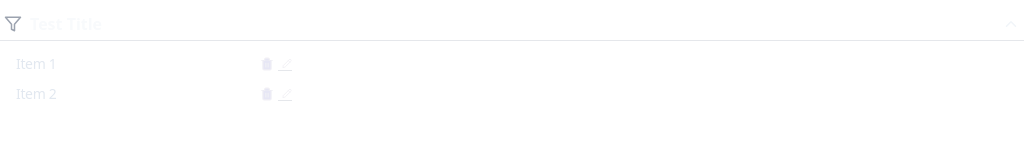
MenuItem Component › should enter edit mode in advanced menuItem when edit icon is clicked
The image size is (1024, 160).
Click the button named "Edit Item 1" at (285, 64), box [278,57,292,71]
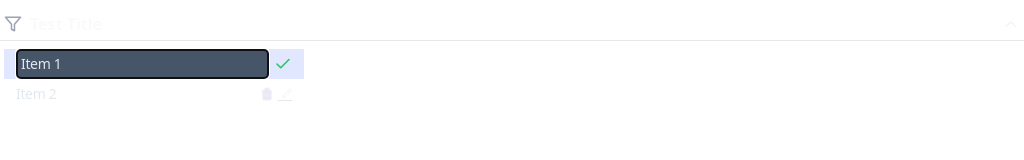
Expected: the field showing "Item 1" is shown, [16,49,269,79]
